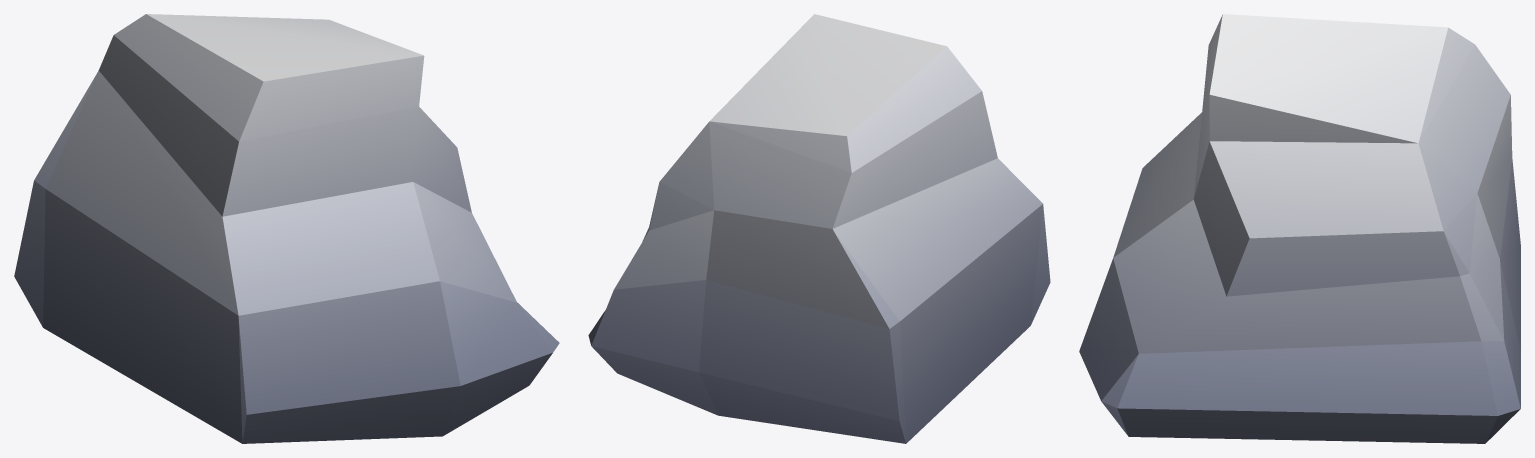
File: Rock_3.fbx
The picture shows the model from 3 angles, left to right: view 1: azimuth 30°, elevation 25°; view 2: azimuth 150°, elevation 25°; view 3: azimuth 270°, elevation 25°; orthographic projection. The views are drawn at different scales.
Parts seen in each view (by area): view 1: Rock_3; view 2: Rock_3; view 3: Rock_3.
Part boxes in pixels (x1,y1,x2,y2): Rock_3: [14, 14, 559, 443]; Rock_3: [588, 14, 1050, 443]; Rock_3: [1079, 14, 1520, 443].
Size of the model in its own units: 0.7384 by 0.676 by 0.8026.
